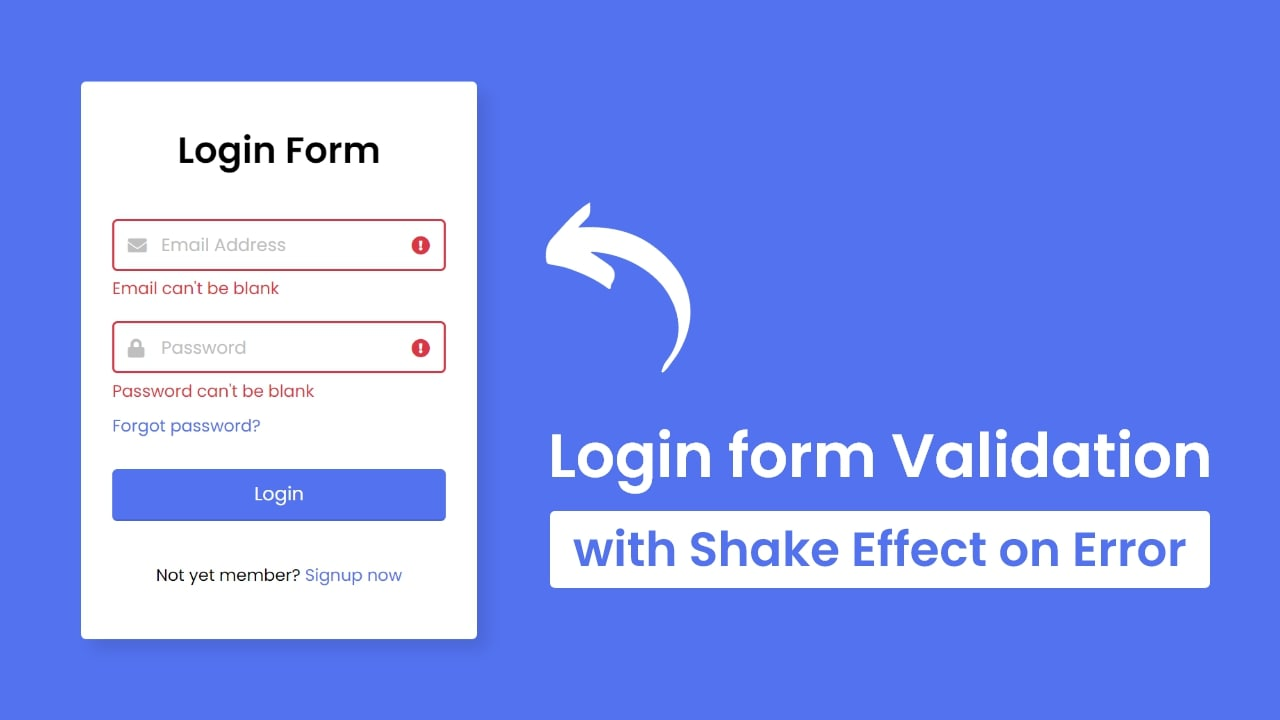error_field: (109, 217, 446, 272), (110, 319, 446, 374)
error_message: (109, 379, 315, 402), (110, 277, 283, 298)
